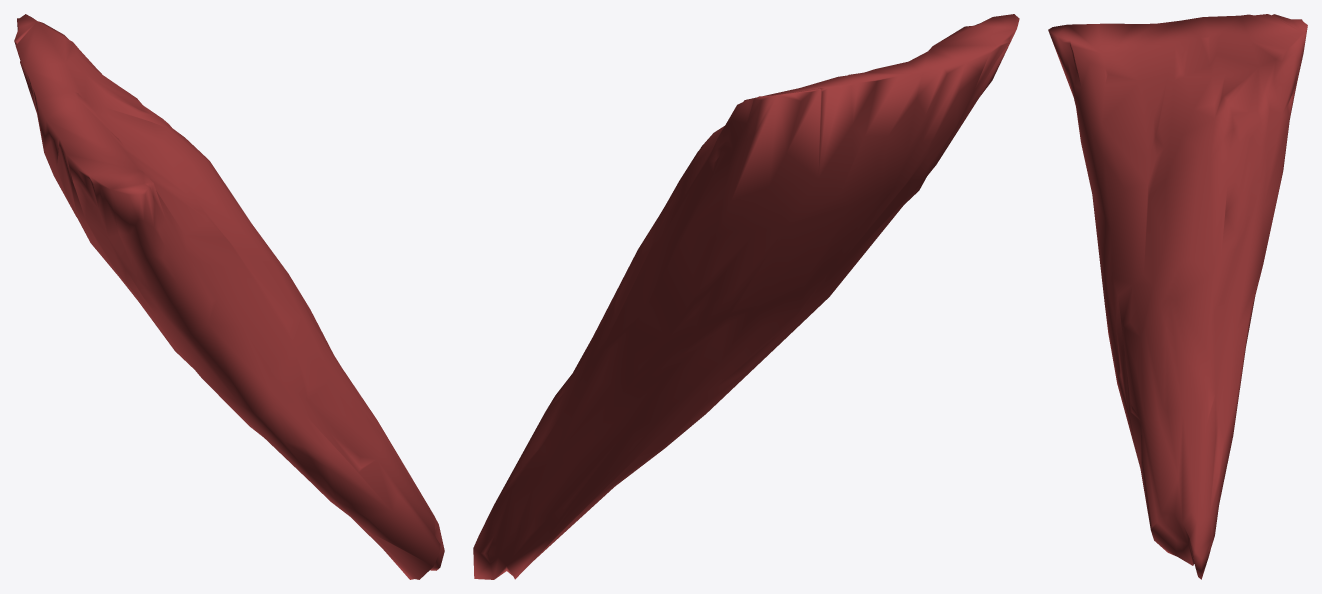
The model's file is rectus-posterior-major-capitis-muscle-r.glb.
The picture shows the model from 3 angles, left to right: view 1: azimuth 30°, elevation 25°; view 2: azimuth 150°, elevation 25°; view 3: azimuth 270°, elevation 25°; orthographic projection. The views are drawn at different scales.
Parts seen in each view (by area): view 1: Rectus posterior major capitis muscle.r; view 2: Rectus posterior major capitis muscle.r; view 3: Rectus posterior major capitis muscle.r.
Boxes of the visible parts, x1,y1,x2,y2 form: Rectus posterior major capitis muscle.r: (14,14,444,579); Rectus posterior major capitis muscle.r: (473,14,1019,579); Rectus posterior major capitis muscle.r: (1048,14,1307,579).
Size of the model in its own units: 0.0353 by 0.0466 by 0.0253.
